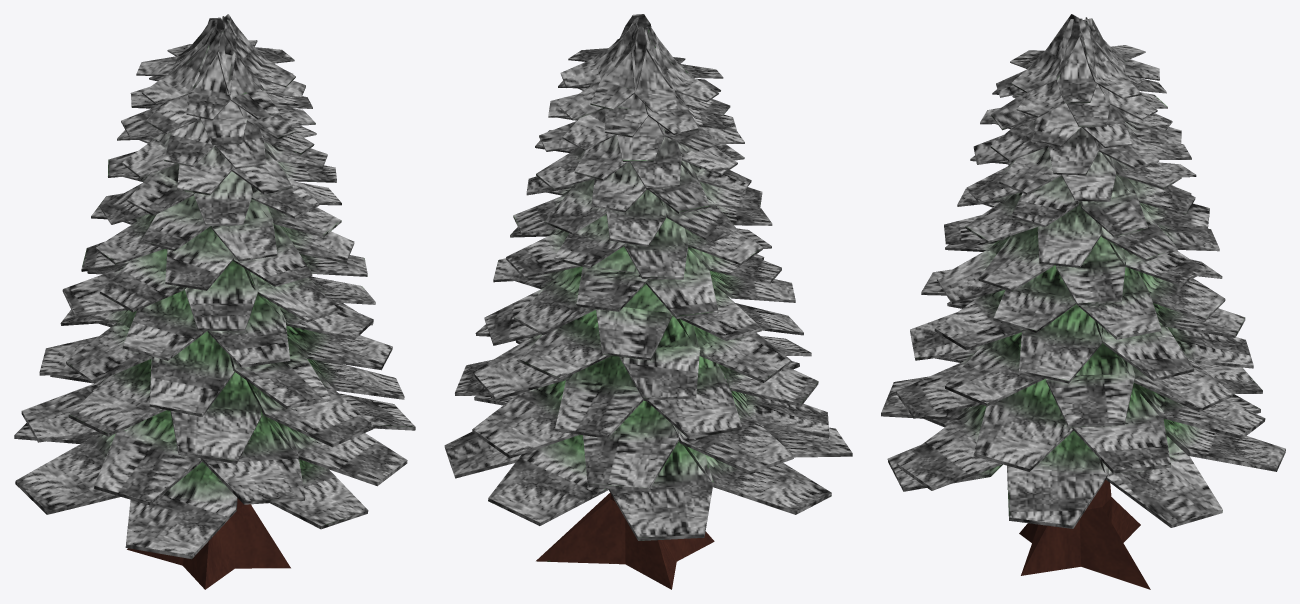
The model's file is Tree Model.fbx.
3 views of the same model, side by side, from view 1: azimuth 30°, elevation 25°; view 2: azimuth 150°, elevation 25°; view 3: azimuth 270°, elevation 25° (orthographic).
Parts seen in each view (by area): view 1: Cylinder.011; view 2: Cylinder.011; view 3: Cylinder.011.
Boxes of the visible parts, x1,y1,x2,y2 form: Cylinder.011: [14, 14, 415, 589]; Cylinder.011: [444, 14, 852, 589]; Cylinder.011: [881, 14, 1285, 589].
Bounding box in the file's own units: 322 × 470 × 318.
